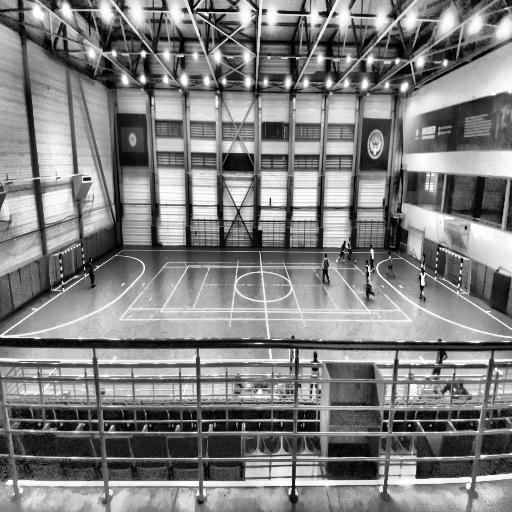ball: (354, 260, 357, 264)
player: (418, 268, 428, 302), (385, 251, 396, 279), (365, 273, 375, 301), (88, 256, 96, 290), (322, 253, 330, 286), (337, 239, 347, 261), (369, 243, 375, 272), (420, 251, 426, 271), (365, 260, 370, 281), (348, 237, 352, 261)
